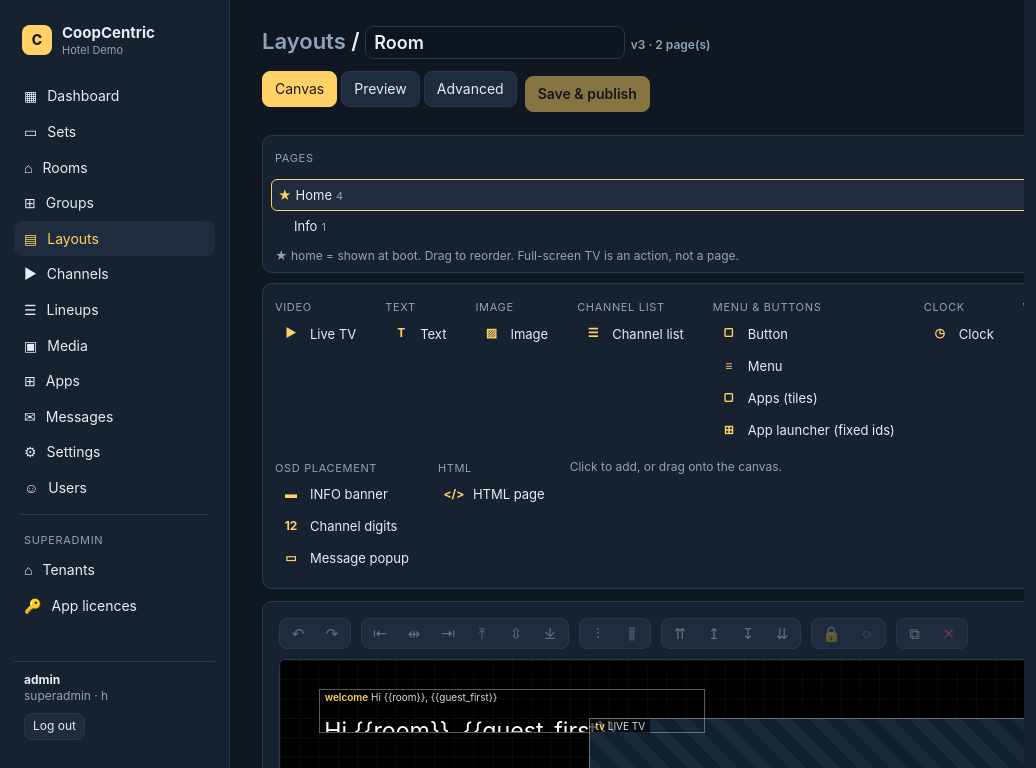
it: B2 canvas editor › preview tab draws with the shared renderer code and sample data
Click the tab "Preview" at (380, 89), box [341,71,420,107]
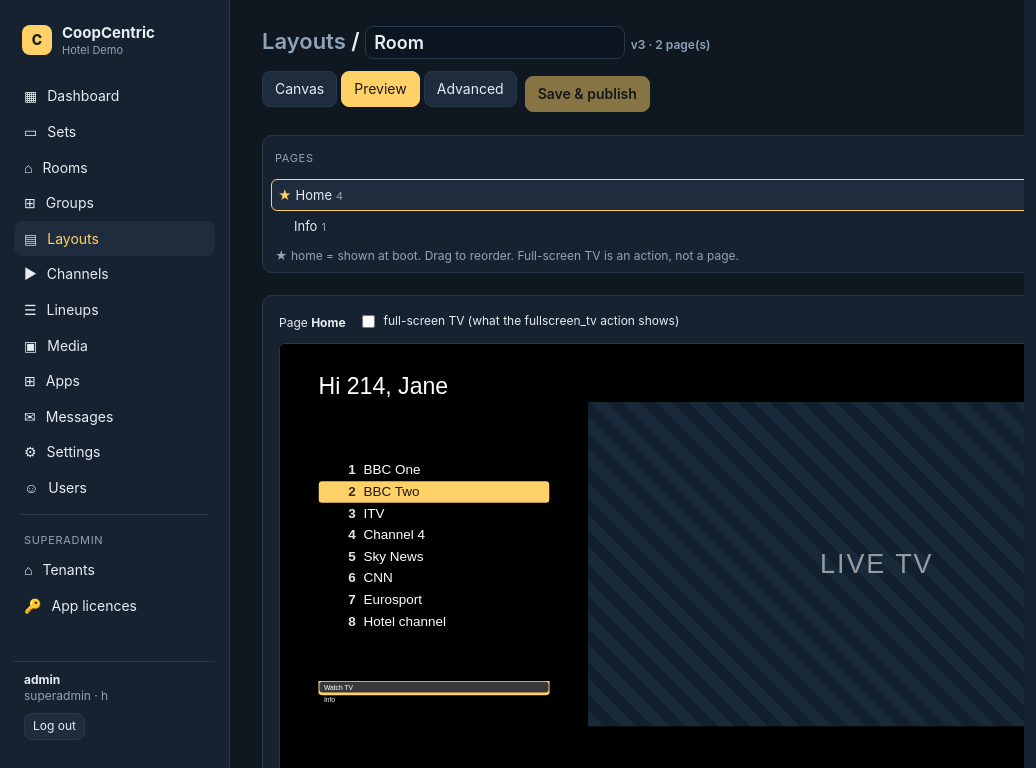
Expected: the text with class "focused" reads "Watch TV", [324,684,353,691]
Expected: the text with id "zone-welcome" reads "Hi 214, Jane", [318,374,448,399]
Expected: the element with class "chrow" shows "BBC Two", [364,484,419,499]
Click the button with aria-label "page Info" at (310, 226), box [294,218,326,234]
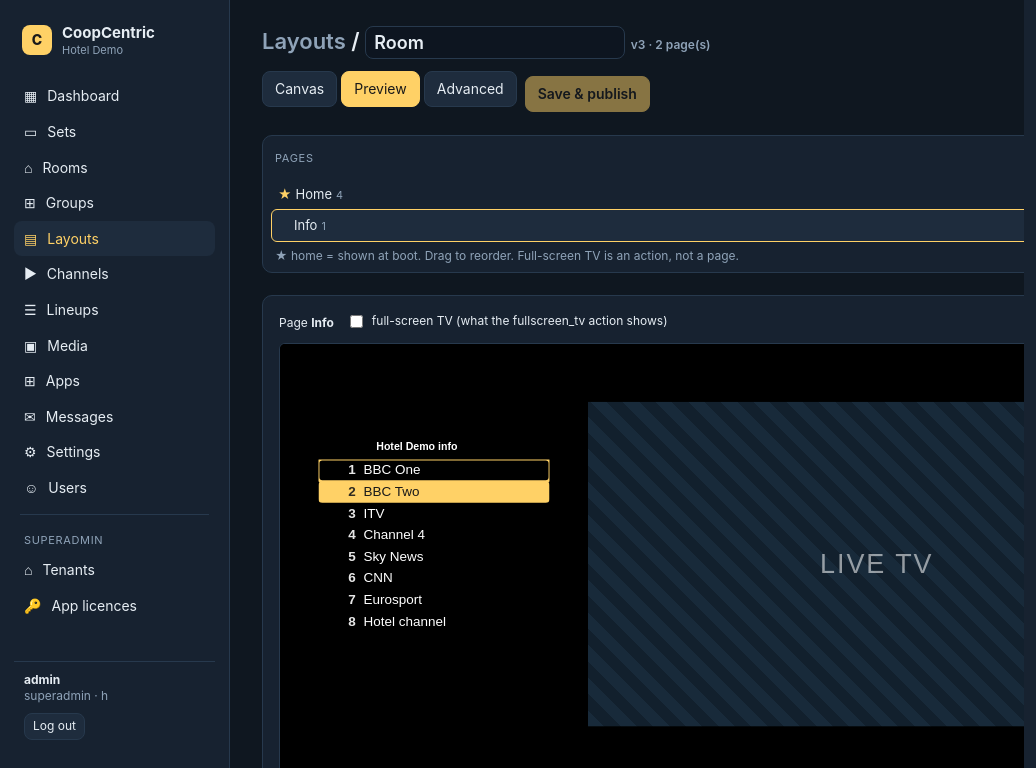
Expected: the heading "Hotel Demo info" is shown, [376,441,458,453]
Expected: the text with id "zone-welcome" is gone
Click the checkbox named "Preview full-screen TV" at (356, 322), box [350,315,363,328]
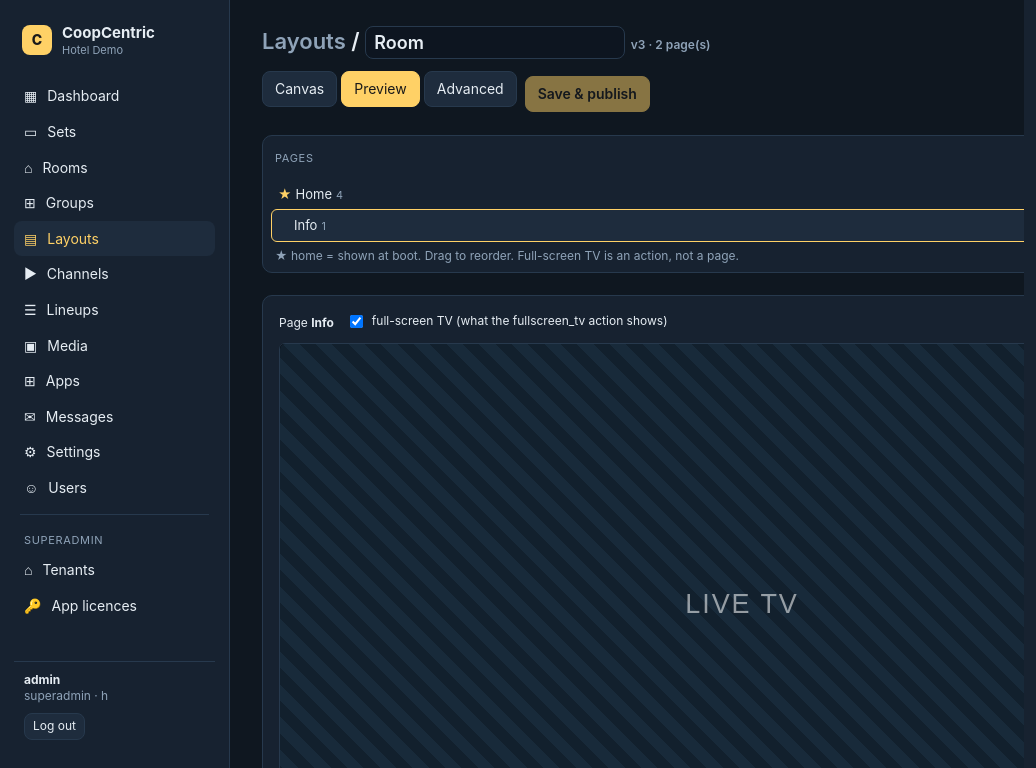
Expected: the element with id "zone-info" is gone
